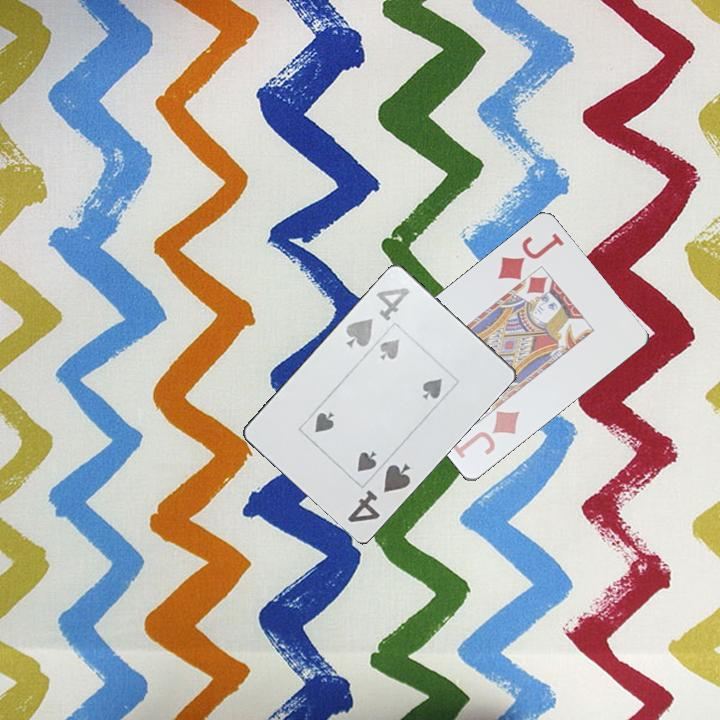4s: (342, 283, 413, 351), (344, 460, 416, 526)
Jd: (449, 408, 523, 462), (494, 229, 567, 283)
